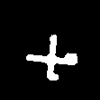single_crochet: (26, 35, 76, 79)
